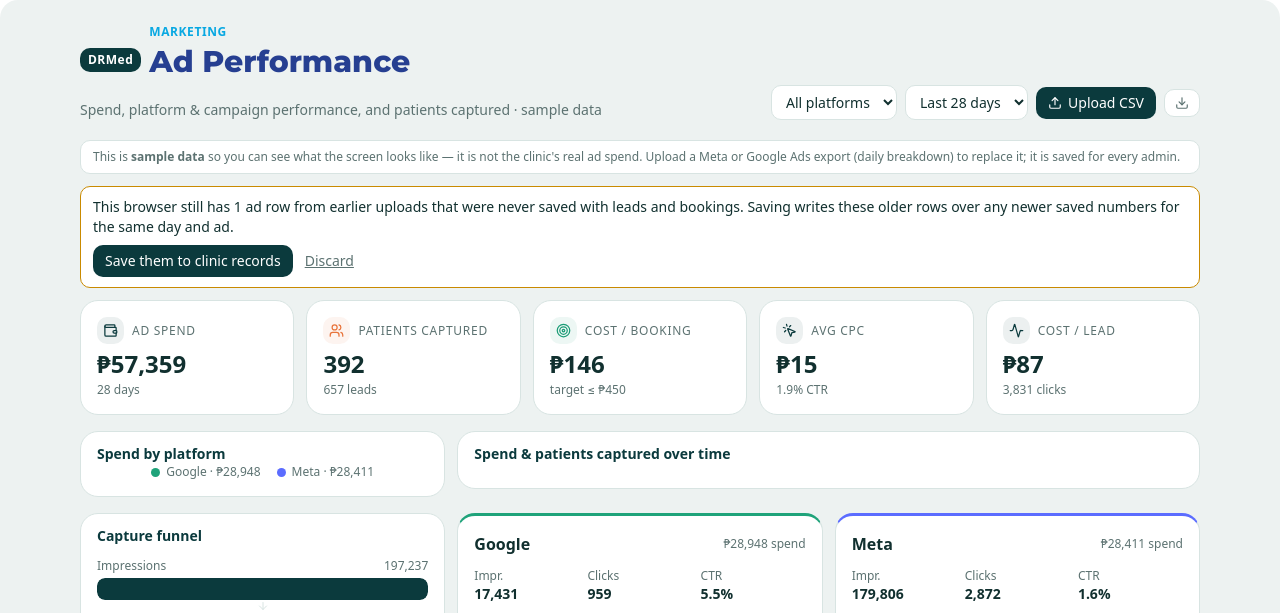
one-time move of this browser's old rows › keeps the browser's copy and the notice when the save fails
The width and height of the screenshot is (1280, 613).
Click the button "Save them to clinic records": (193, 261) top-left (93, 245), bottom-right (293, 277)
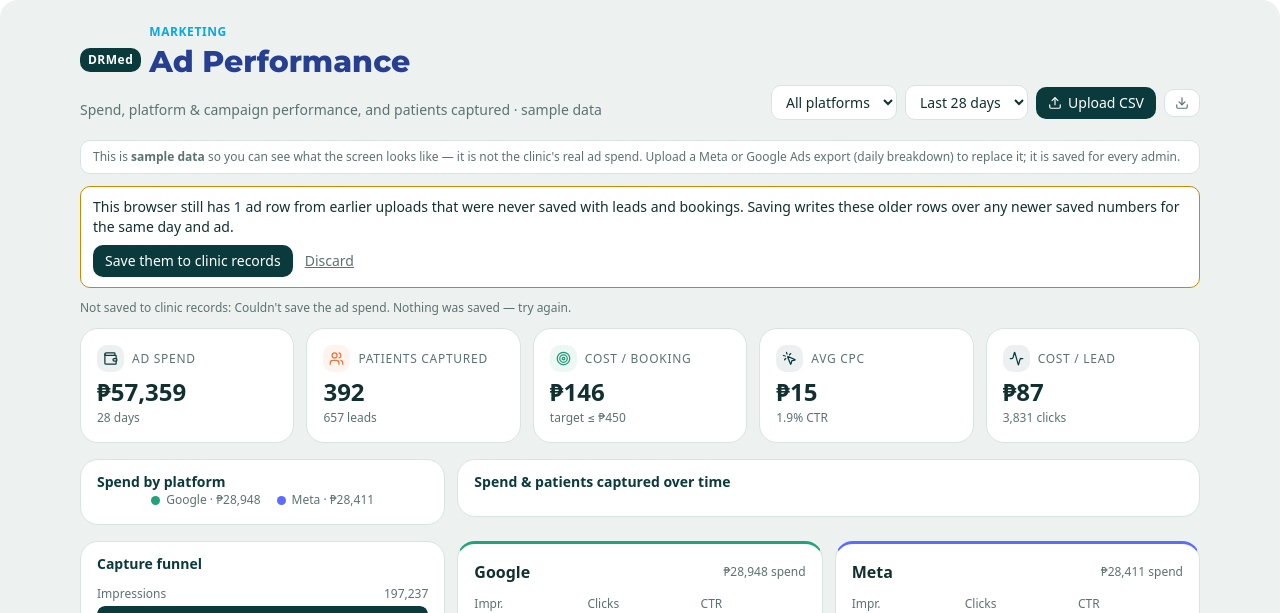
Expected: the element named "only in this browser" is shown, top-left (80, 186), bottom-right (1200, 288)
Expected: the text "Not saved to clinic records" is shown, top-left (80, 299), bottom-right (571, 316)
